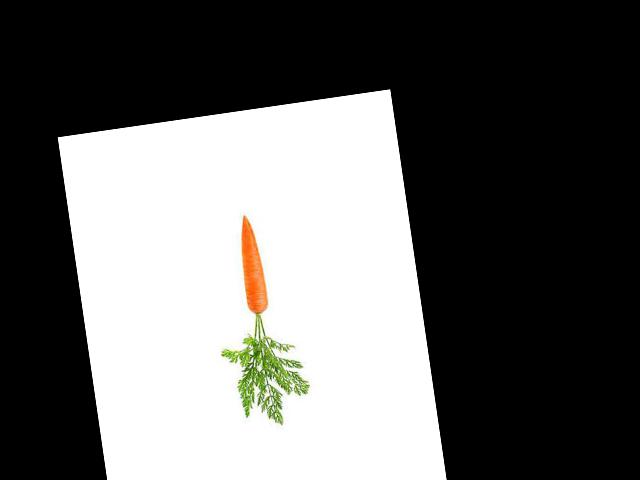carrot: (230, 210, 272, 318)
